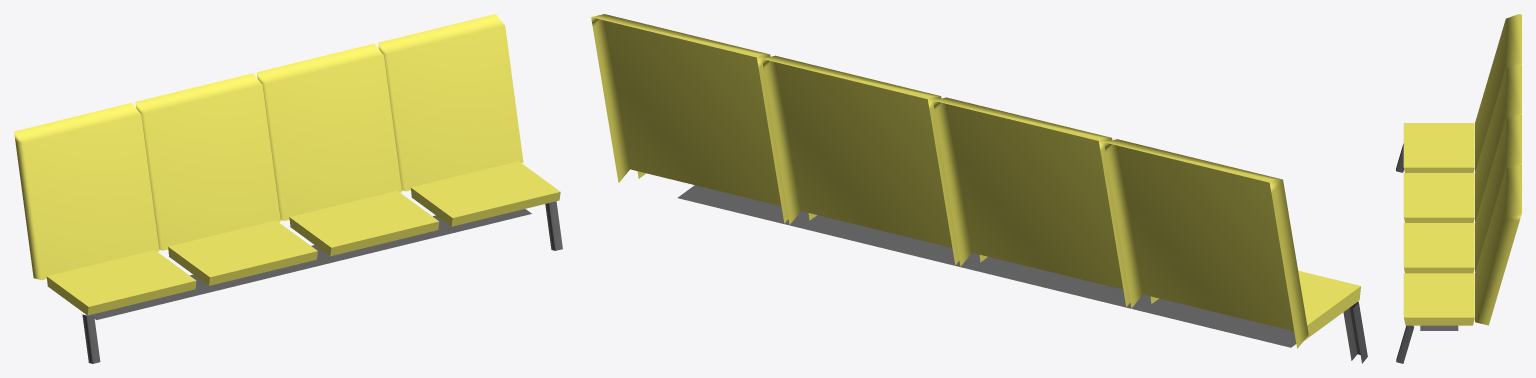
The model's file is SM_Immigration_Bench_01.fbx.
3 views of the same model, side by side, from view 1: azimuth 30°, elevation 25°; view 2: azimuth 150°, elevation 25°; view 3: azimuth 270°, elevation 25° (orthographic). The views are drawn at different scales.
Visible parts, largest first — view 1: pasted__pasted__bench_chair4_high_pasted__pasted__bench_back; view 2: pasted__pasted__bench_chair4_high_pasted__pasted__bench_back; view 3: pasted__pasted__bench_chair4_high_pasted__pasted__bench_back.
Boxes of the visible parts, <box> form: pasted__pasted__bench_chair4_high_pasted__pasted__bench_back: <box>14,14,562,363</box>; pasted__pasted__bench_chair4_high_pasted__pasted__bench_back: <box>591,14,1367,363</box>; pasted__pasted__bench_chair4_high_pasted__pasted__bench_back: <box>1396,14,1521,363</box>.
Size of the model in its own units: 3.31 by 1.2 by 0.8861.
